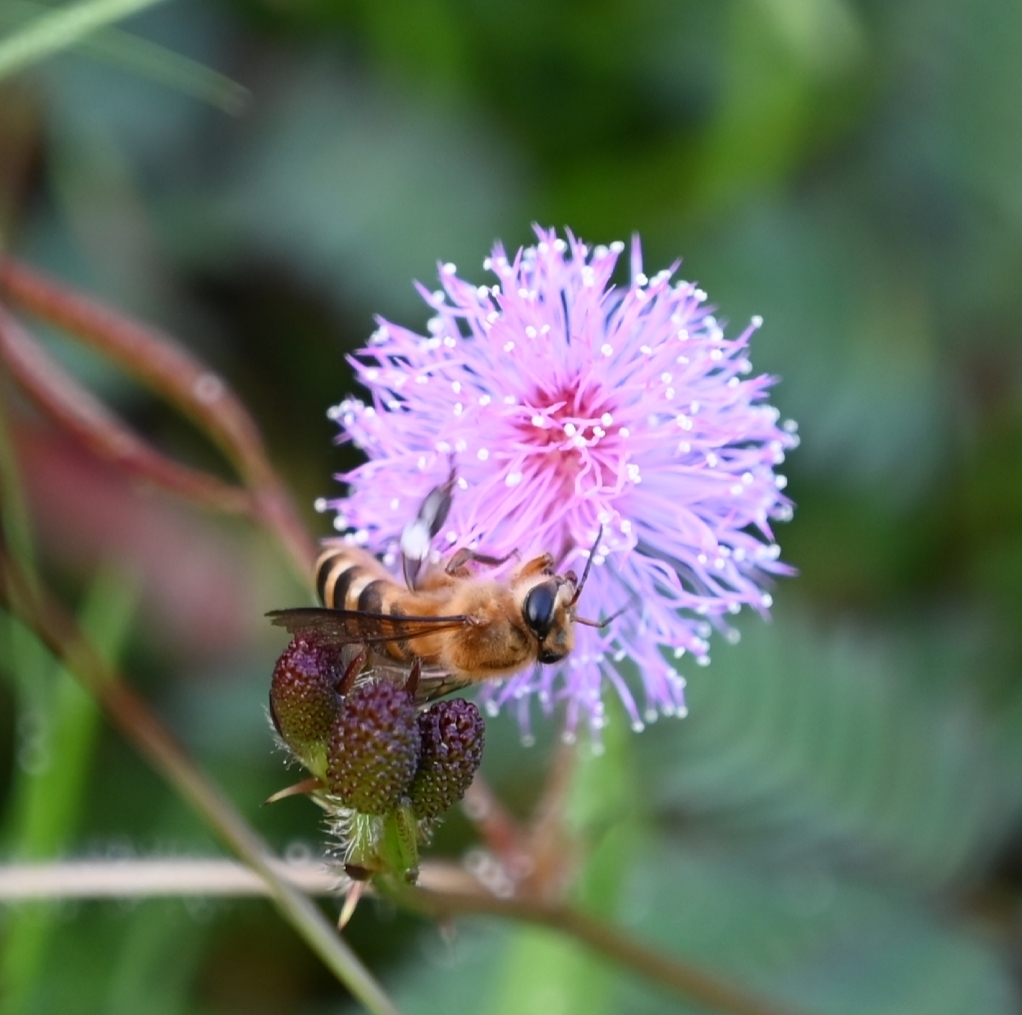not_bumblebee: (264, 471, 608, 704)
